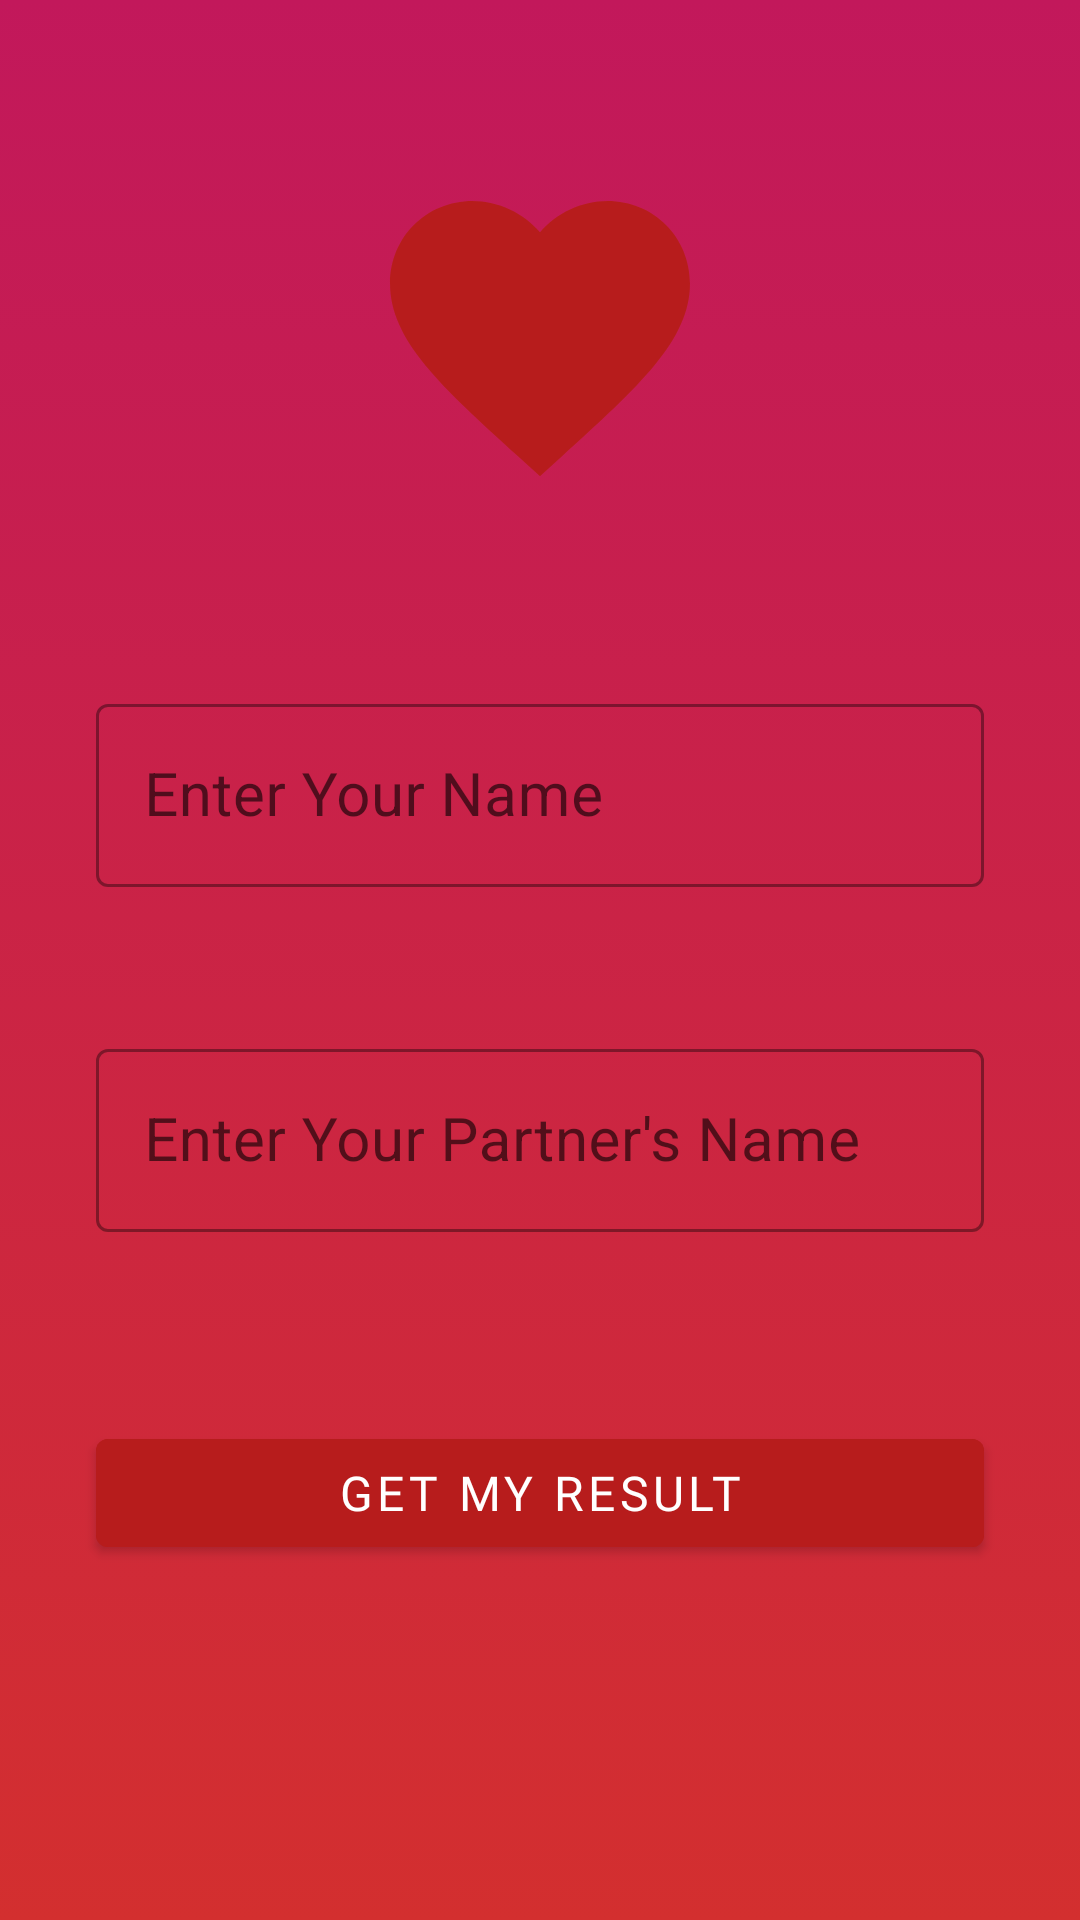

Where icons sit on this 1080px×1920px app screen, as (x1, y1, x2, y2):
love: (390, 201, 690, 476)
